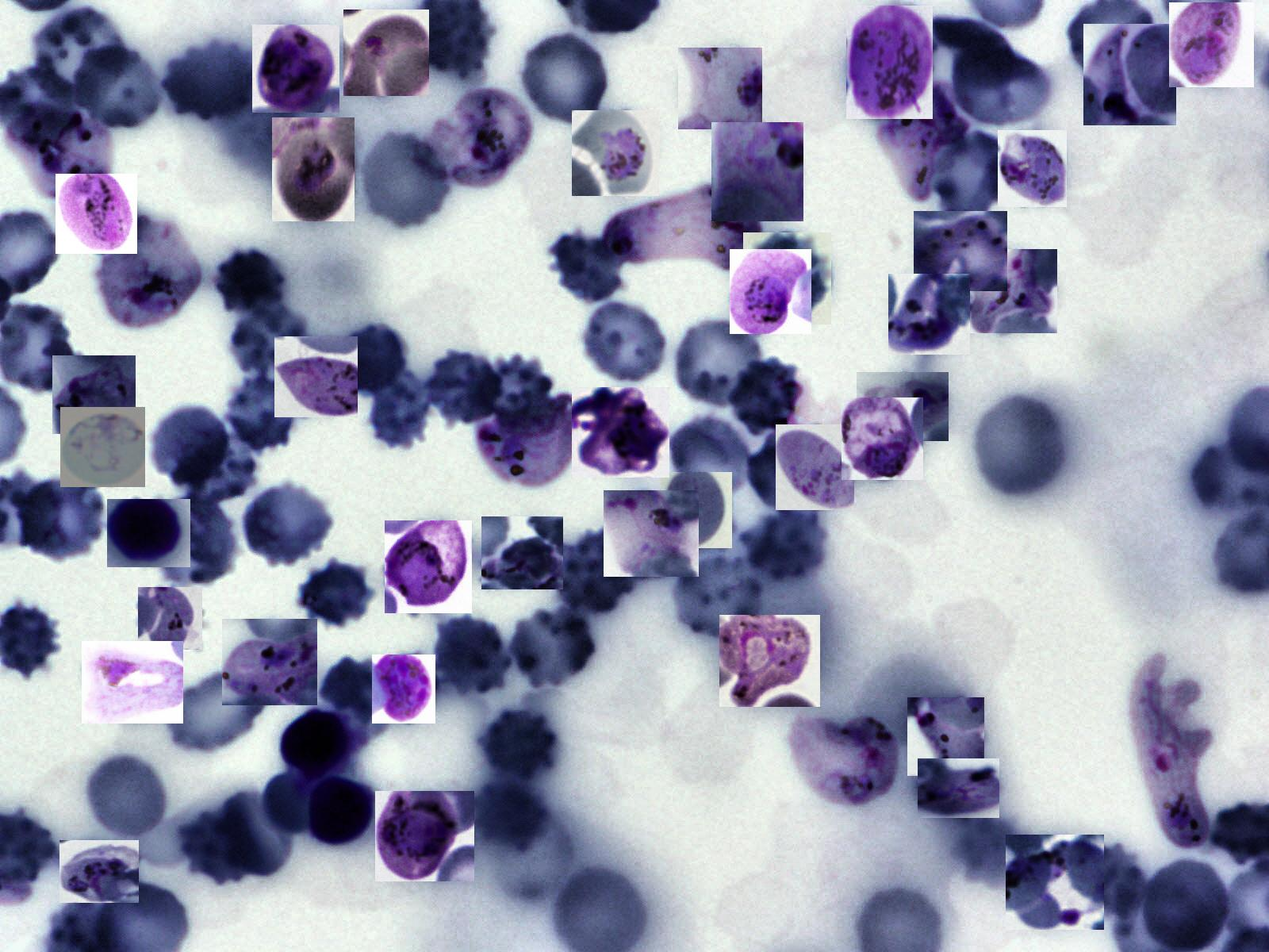Infected: (1130, 655, 1213, 848), (604, 186, 764, 270), (94, 221, 202, 332), (429, 82, 532, 193), (788, 709, 900, 810), (6, 103, 113, 200), (880, 82, 968, 198), (473, 390, 577, 486), (846, 6, 933, 119), (1083, 24, 1176, 125), (1006, 835, 1104, 930), (719, 615, 820, 707), (711, 122, 803, 221), (375, 791, 474, 881), (572, 387, 669, 478), (272, 117, 355, 221), (82, 641, 183, 724), (604, 490, 699, 577), (222, 619, 317, 705), (743, 232, 831, 324), (385, 521, 472, 614), (252, 25, 339, 113), (572, 110, 659, 196), (914, 211, 1007, 291), (343, 10, 429, 96), (970, 249, 1057, 333), (1169, 2, 1254, 87), (730, 249, 811, 334), (678, 48, 762, 129), (274, 336, 358, 417), (60, 407, 145, 487), (842, 397, 923, 480), (776, 424, 854, 510), (888, 274, 970, 355), (52, 355, 136, 434), (56, 174, 137, 254), (857, 372, 949, 441), (278, 709, 371, 775), (907, 697, 984, 776), (481, 516, 563, 589), (107, 499, 190, 567), (302, 776, 378, 848), (661, 472, 733, 548), (998, 130, 1067, 207), (59, 840, 139, 903), (918, 758, 999, 818), (372, 654, 435, 724), (139, 587, 203, 650)
Uninfected: (971, 392, 1071, 502), (946, 35, 1052, 132), (159, 666, 274, 755), (357, 130, 454, 232), (515, 29, 614, 128), (31, 7, 129, 103), (668, 317, 769, 408), (668, 553, 767, 643), (577, 298, 671, 387), (71, 44, 164, 133), (163, 37, 256, 126), (153, 493, 240, 588), (82, 752, 171, 843), (927, 126, 1015, 217), (17, 475, 109, 562), (508, 605, 600, 689), (239, 483, 334, 564), (549, 531, 641, 612), (149, 403, 233, 488), (662, 417, 746, 500), (219, 375, 305, 455), (431, 614, 512, 698), (216, 791, 292, 877), (473, 706, 553, 787), (546, 227, 629, 305), (748, 431, 831, 509), (330, 321, 411, 400), (1065, 842, 1148, 918), (174, 433, 259, 505), (178, 811, 259, 886), (740, 514, 828, 580), (231, 305, 312, 375), (291, 555, 371, 621), (734, 360, 807, 431), (431, 347, 497, 425), (368, 374, 435, 450), (213, 250, 290, 313), (481, 356, 553, 423)
